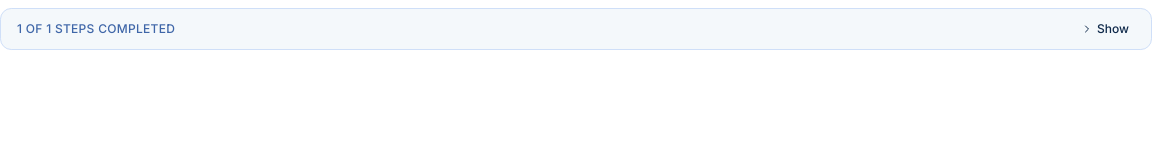
Test: AgentActivity › collapses a finished run's steps behind a toggle
This screenshot has width=1152, height=160.
What coordinates should you click on to do the following:
click the button with aria-label "show agent steps"
I would click on:
 (1105, 29)
Its box is [1075,17,1135,41].
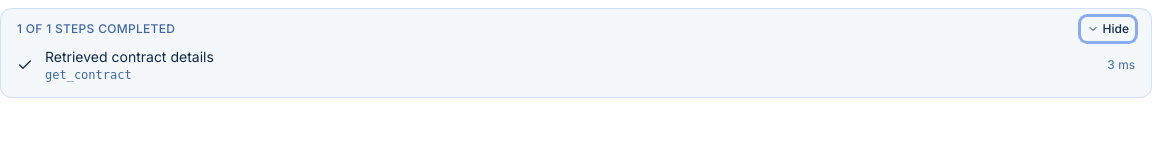
Expected: the list item with test id "tool-item" is shown, [17,41,1135,89]
